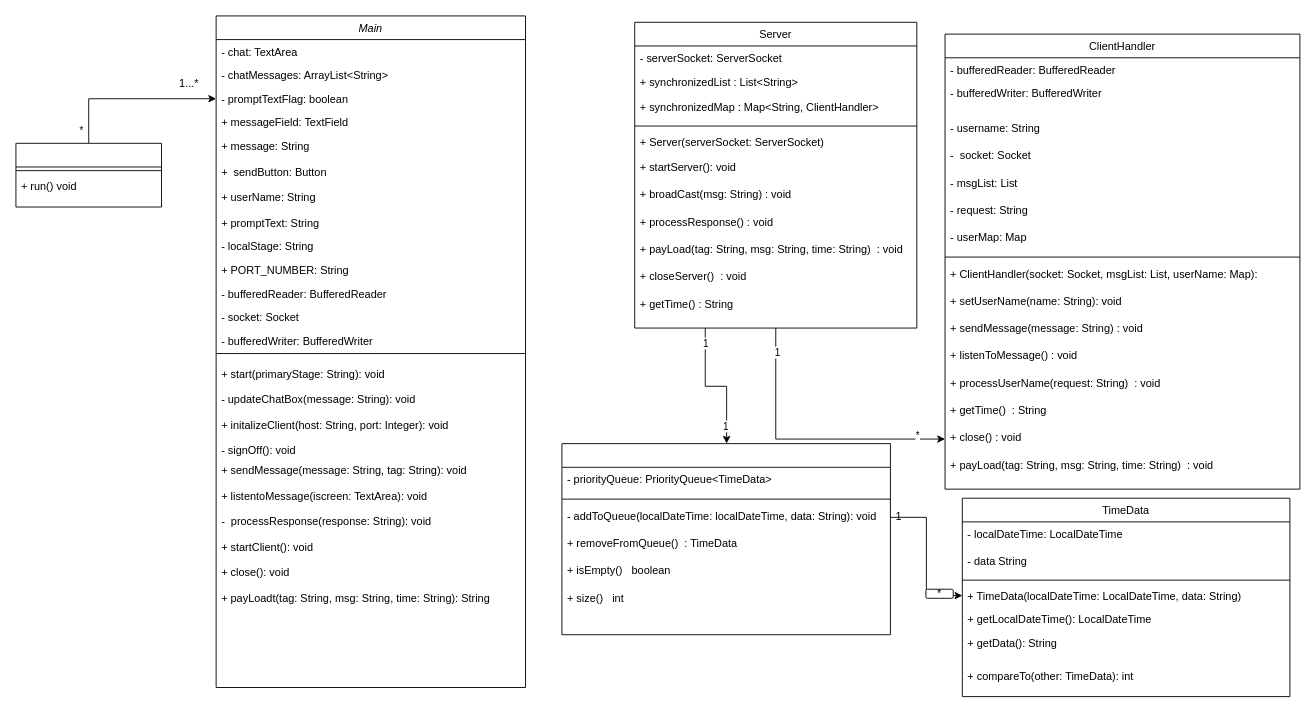
This 1316x715 diagram has some shape labels left out. The shapes that lost their labels are listed below. From the top down, each one's box as (x1, y1, x2, y2) in pixels, then its label:
(15, 142, 162, 207): Tester
(561, 443, 890, 635): TimeHeap
